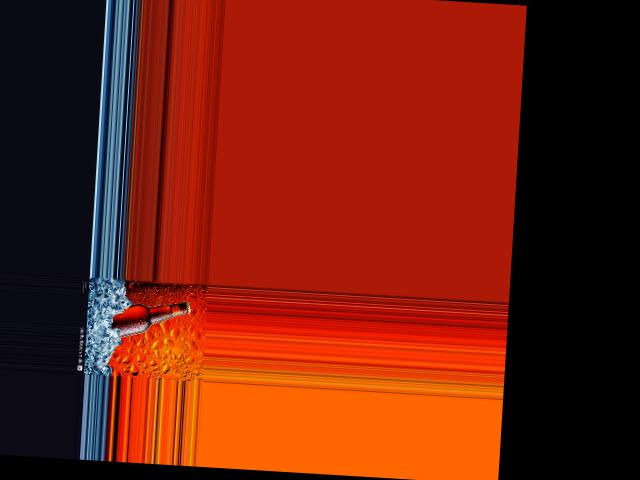beer: (109, 294, 191, 340)
